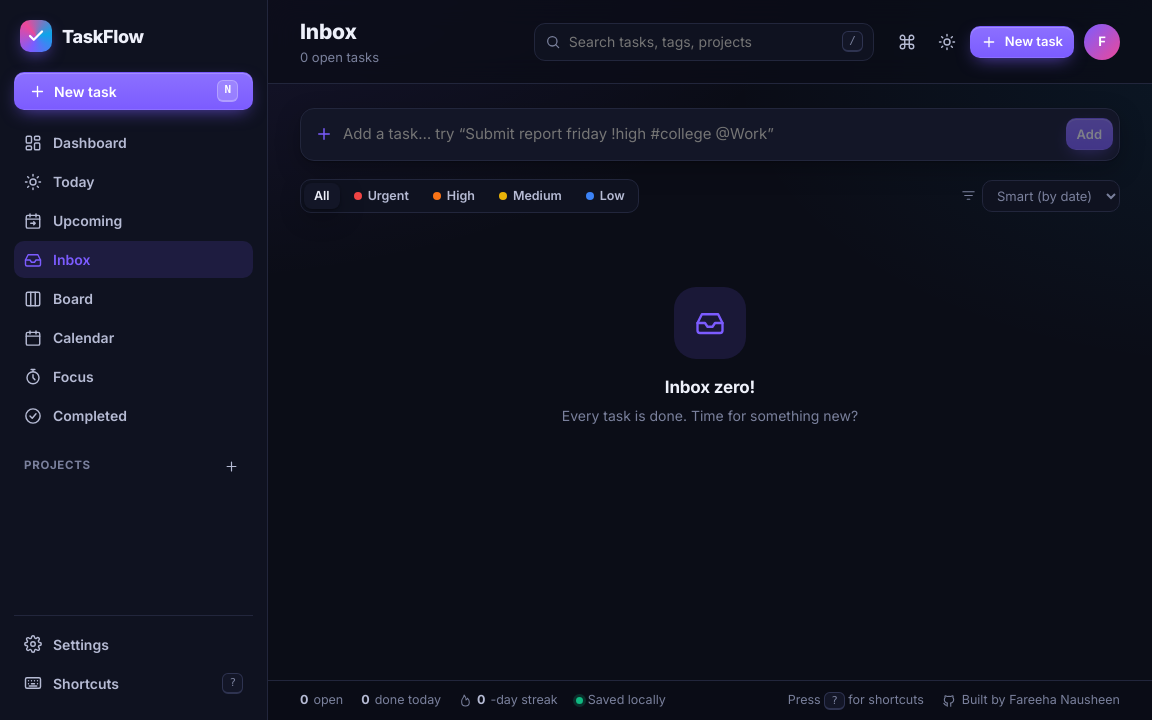
Test case: TaskFlow › opens the command palette with Ctrl+K and navigates
This screenshot has width=1152, height=720.
Type keys "{Control>}k{/Control}"
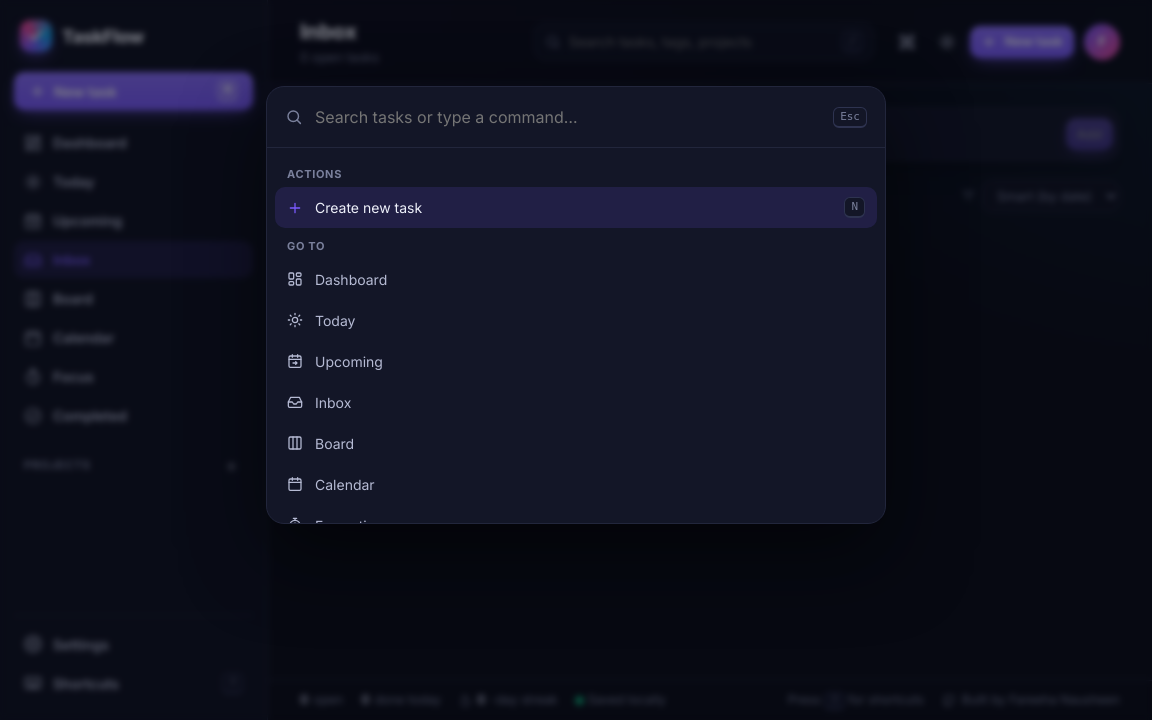
Type "calendar" into the field. click: {"x": 568, "y": 117}
box: [315,101,821,133]
Then press Enter
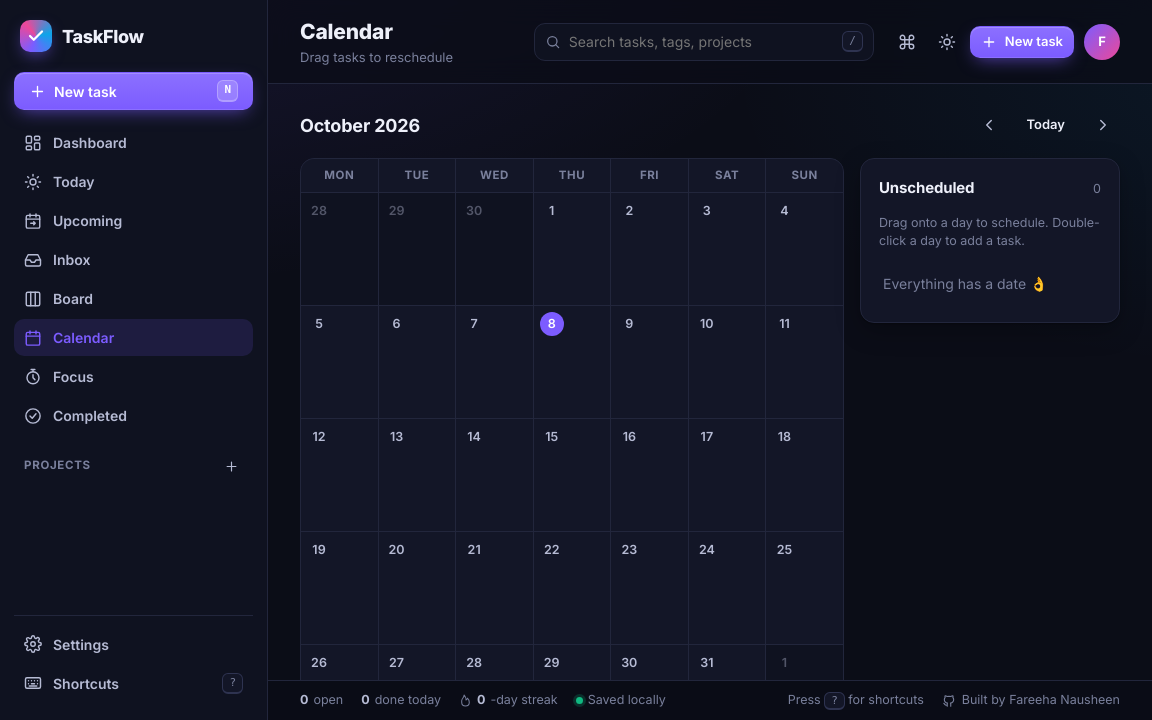
Expected: the dialog is gone
Expected: the heading "Calendar" is shown, [300,19,393,44]
